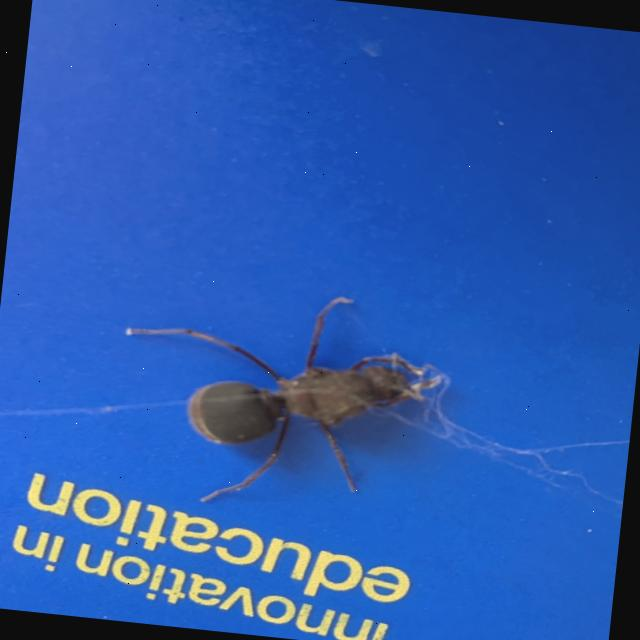Alive-Female-Dealate: (107, 274, 450, 526)
